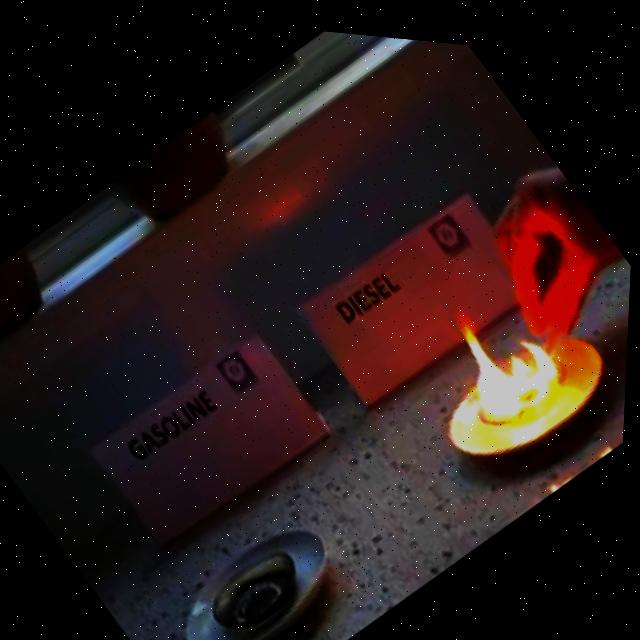Fire: (426, 268, 579, 431)
